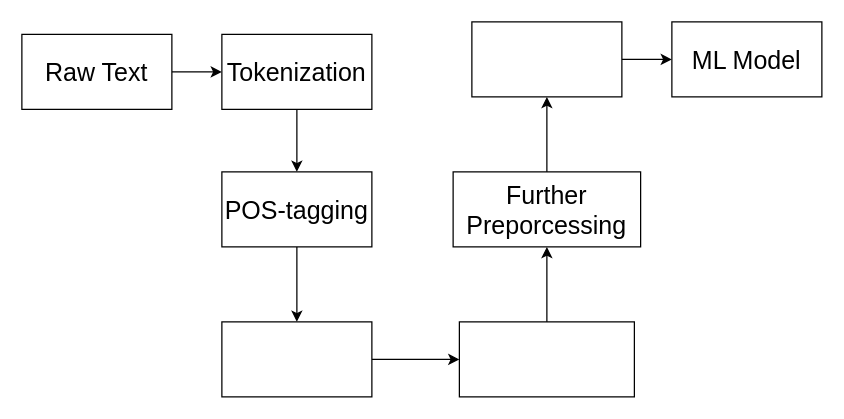
Image size: 844x419. Some labels were removed from this diagram. Each missing label, with the centre of its shape:
Feature Engineering: (x=546, y=59)
Stemming/ Lemmatization: (x=546, y=359)
Stopwords: (x=296, y=359)
